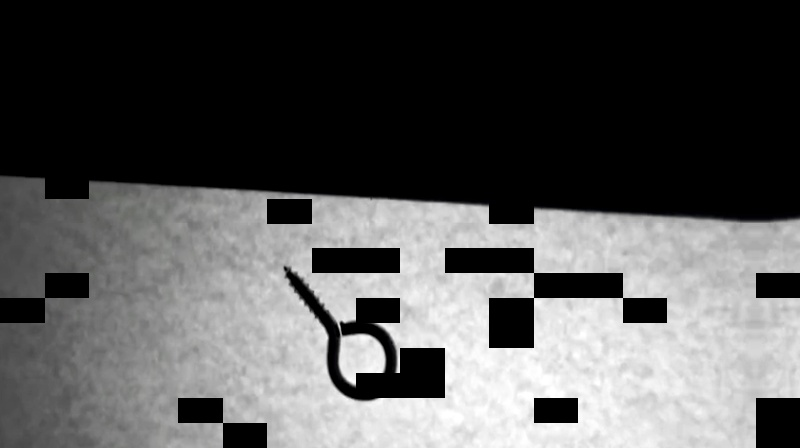O001: (279, 263, 402, 404)
